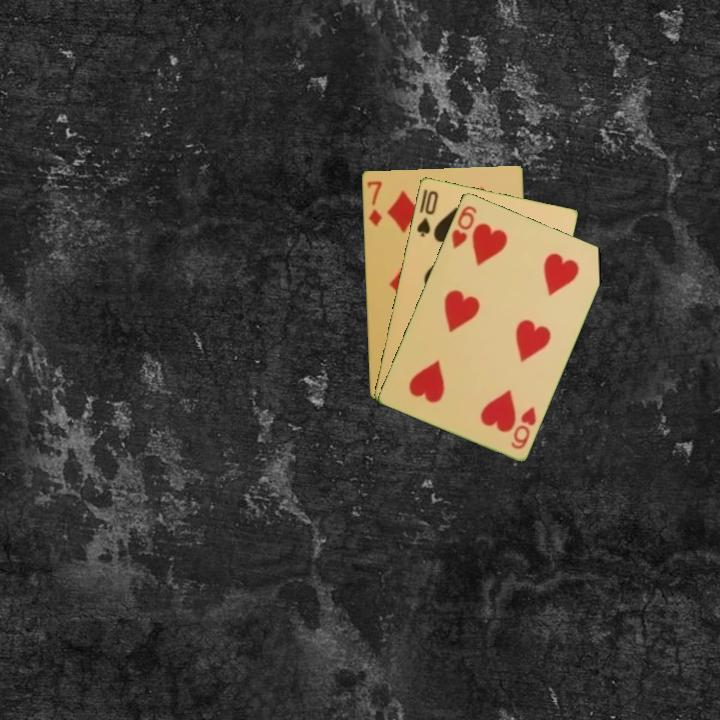10s: (413, 187, 441, 239)
6h: (448, 201, 480, 251), (507, 402, 539, 452)
7d: (364, 177, 385, 229)
